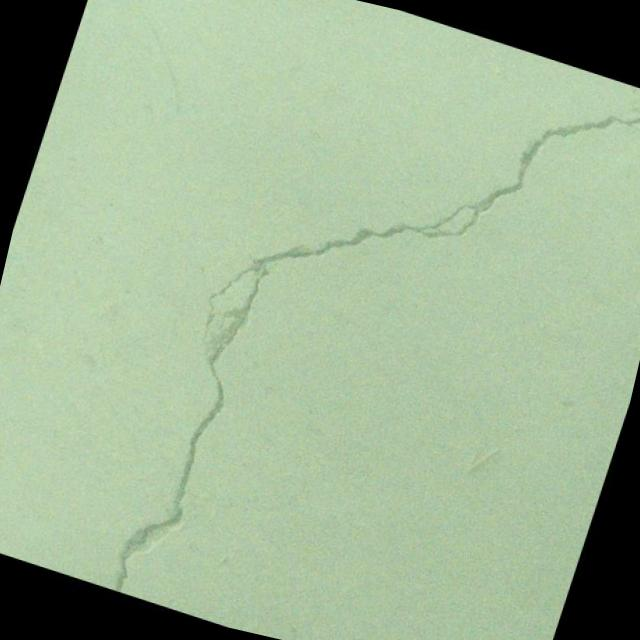crack: (73, 0, 640, 640), (292, 438, 595, 596)
